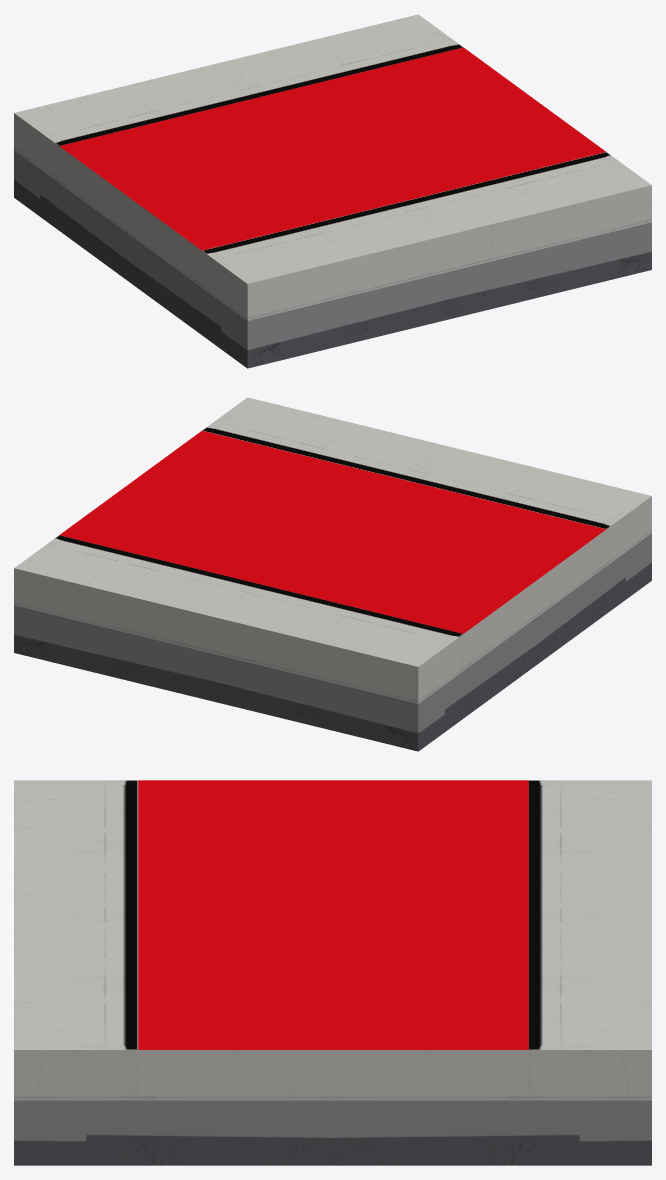
The model's file is G_Env_Arch_Floor_Metal_03_Pathway.fbx.
3 views of the same model, one above another, from view 1: azimuth 30°, elevation 25°; view 2: azimuth 150°, elevation 25°; view 3: azimuth 270°, elevation 25° (orthographic). The views are drawn at different scales.
Parts seen in each view (by area): view 1: G_Env_Arch_Floor_Metal_03_Pathway; view 2: G_Env_Arch_Floor_Metal_03_Pathway; view 3: G_Env_Arch_Floor_Metal_03_Pathway.
Part boxes in pixels (x1,y1,x2,y2): G_Env_Arch_Floor_Metal_03_Pathway: [14, 14, 651, 368]; G_Env_Arch_Floor_Metal_03_Pathway: [14, 397, 651, 751]; G_Env_Arch_Floor_Metal_03_Pathway: [14, 780, 651, 1165].
Size of the model in its own units: 500 by 100 by 500.
